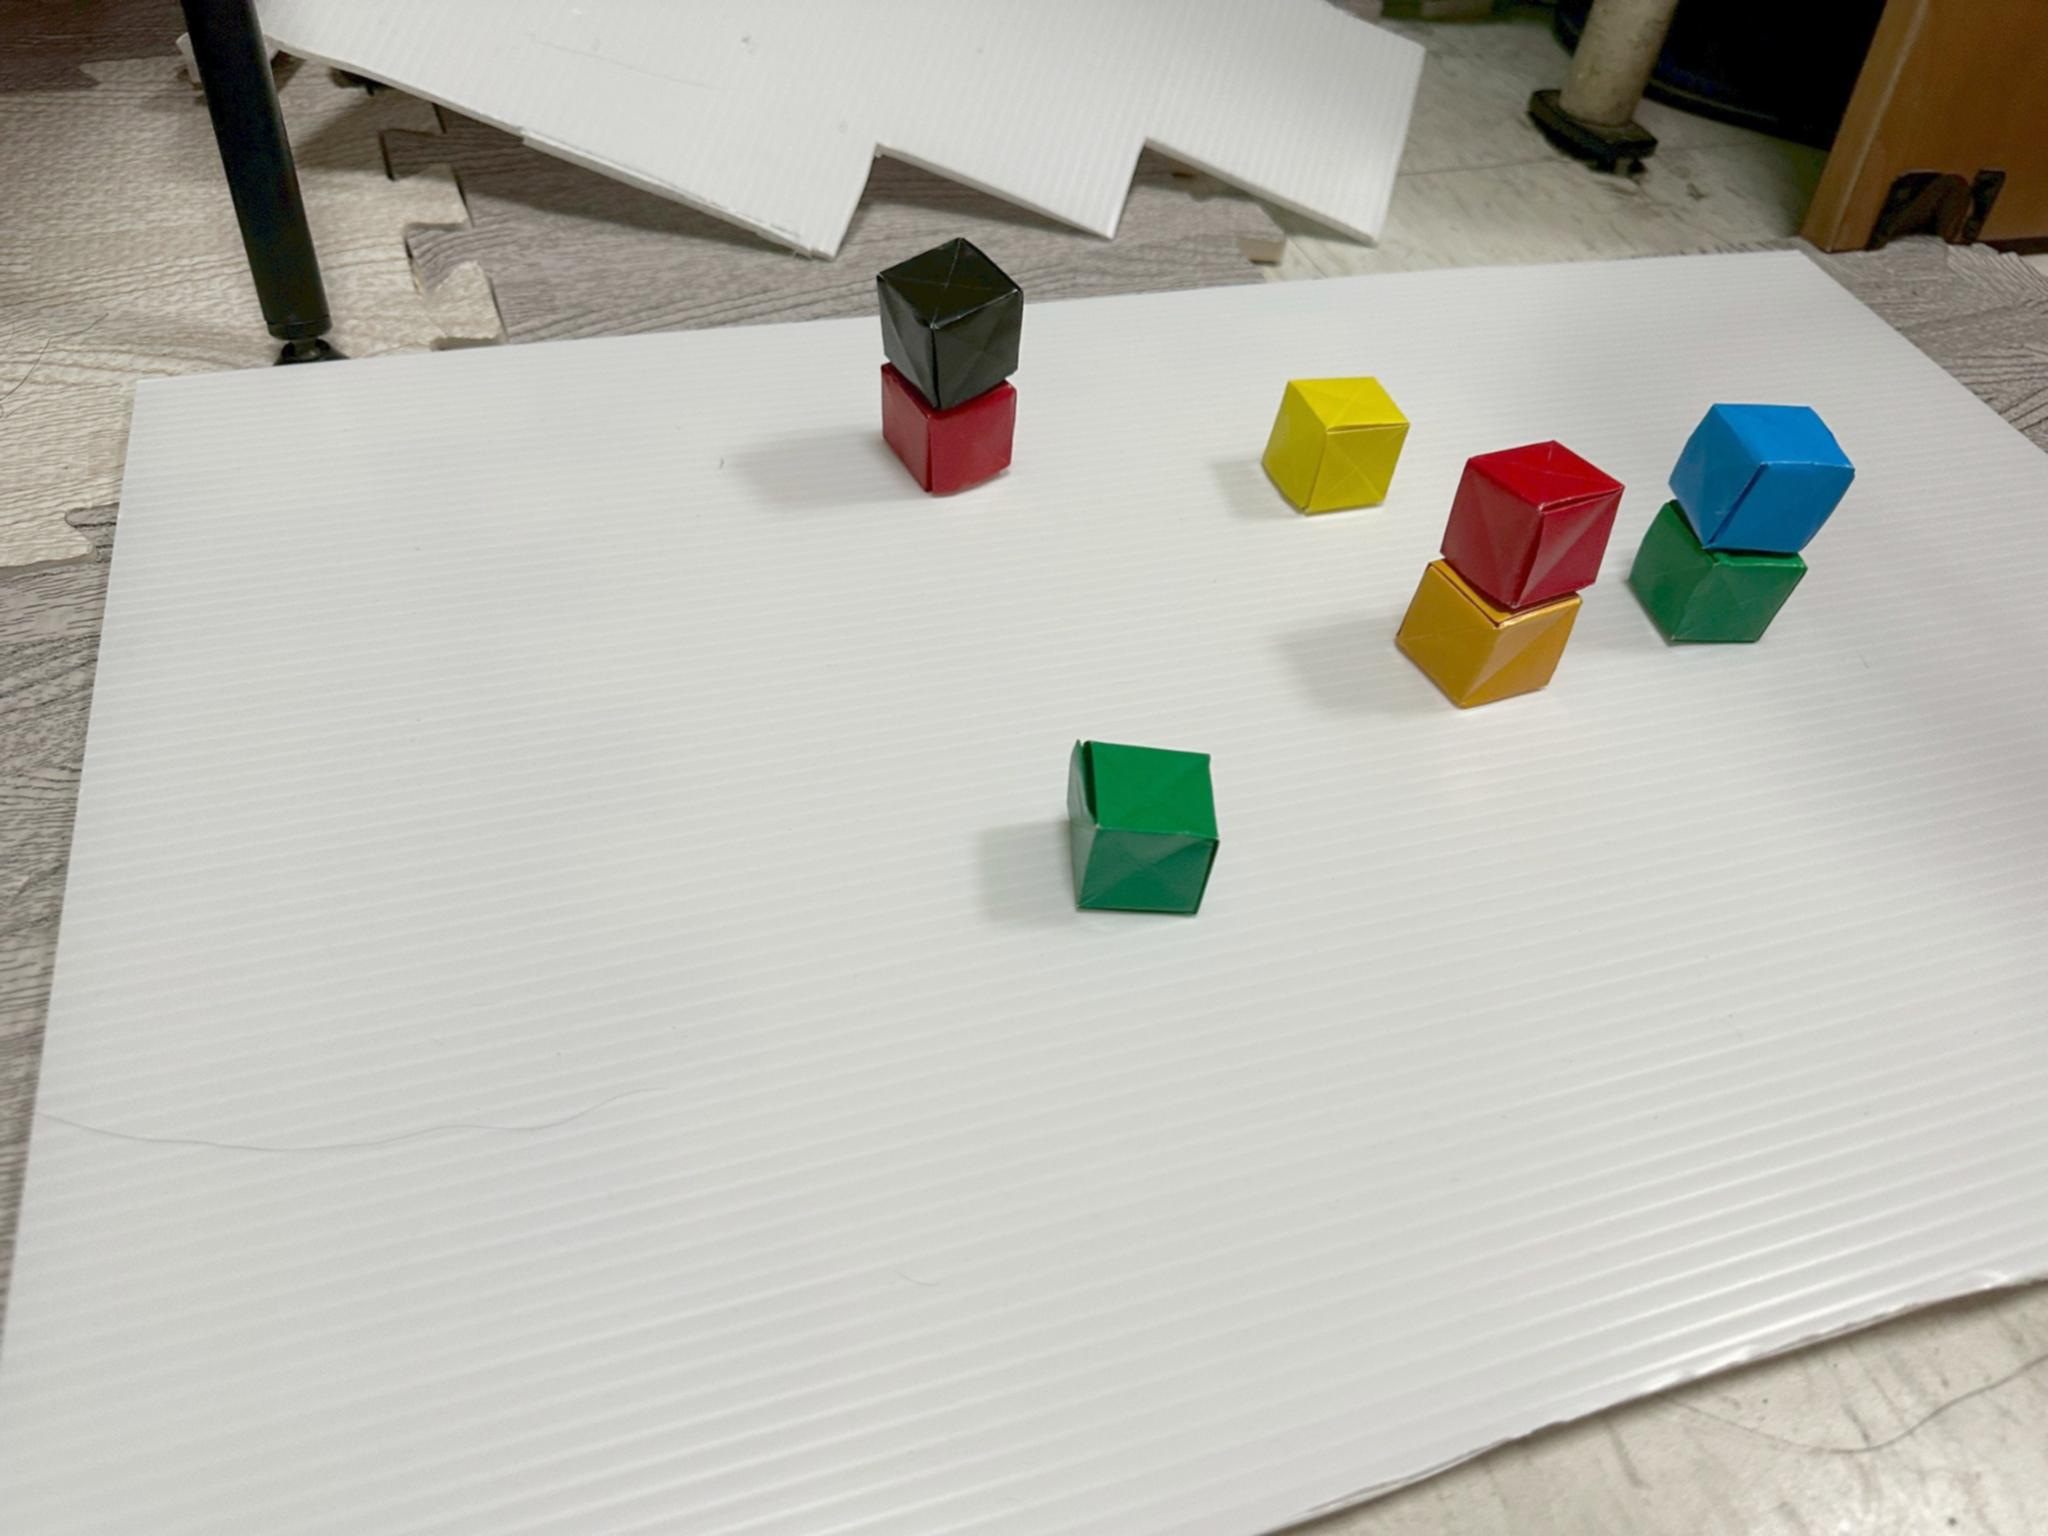cube: (1442, 441, 1624, 610), (1396, 560, 1581, 708), (1669, 404, 1853, 552), (1068, 741, 1219, 914), (877, 239, 1024, 409), (1630, 502, 1806, 642), (1264, 377, 1410, 513), (881, 364, 1016, 495)
